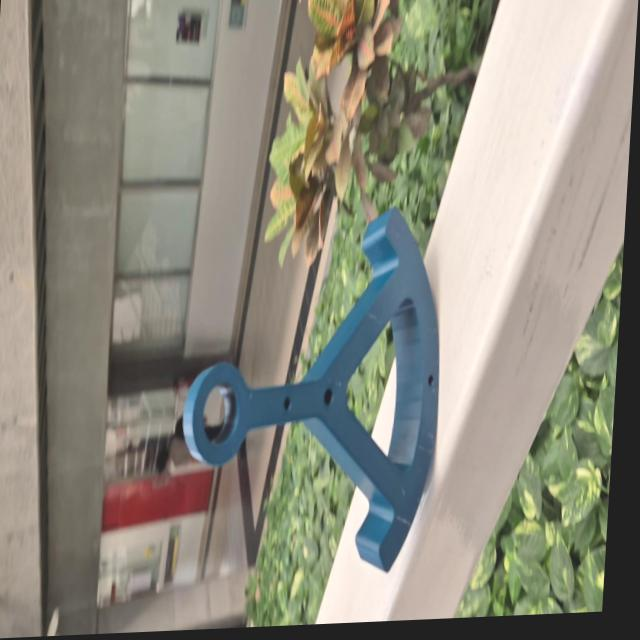haptic: (170, 201, 450, 584)
